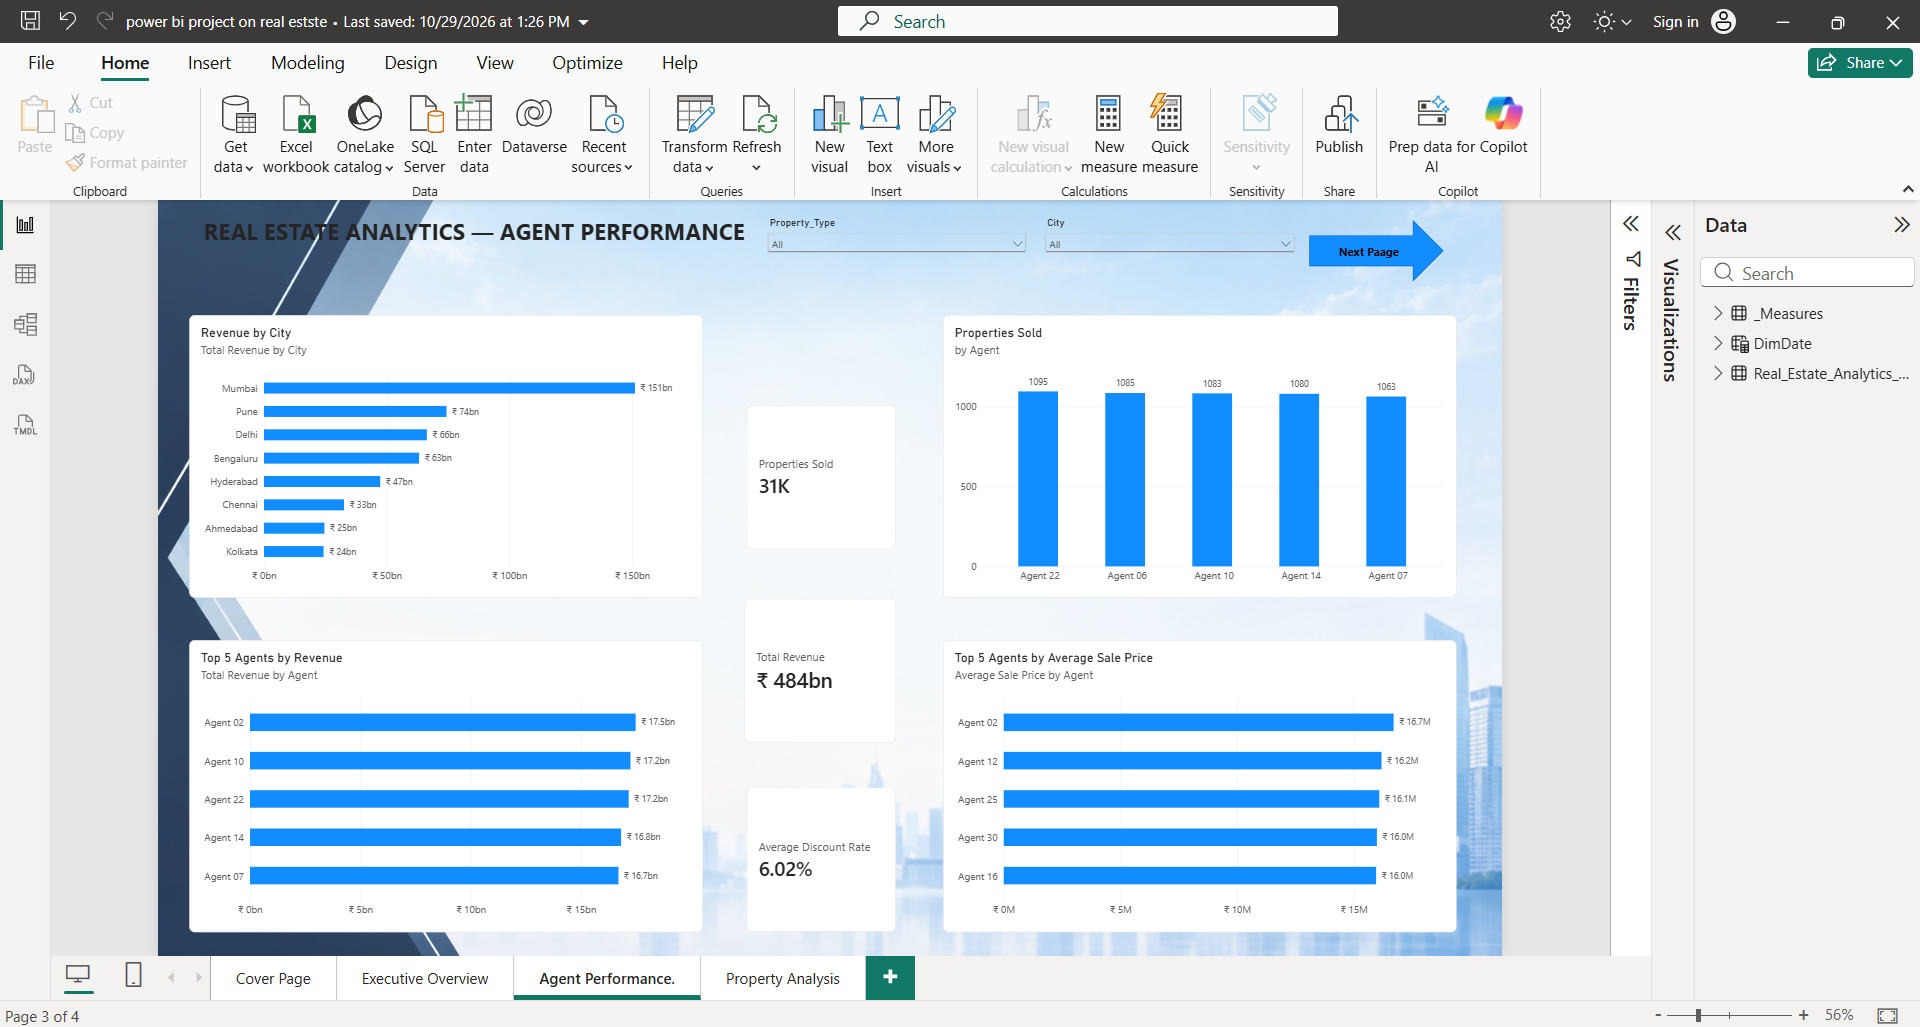

Layout of this report page (visuals, bound fields, positions):
{"tool":"powerbi","page":{"name":"Agent Performance.","canvas":[1920,1080],"ordinal":2},"visuals":[{"type":"clusteredBarChart","title":"Top 5 Agents by Revenue","fields":{"Category":["Real_Estate_Analytics_50000.Agent"],"Y":["_Measures.Total Revenue"]},"box":[43.9,628.4,733.9,417.5],"z":0},{"type":"cardVisual","fields":{"Data":["_Measures.Total Revenue"]},"box":[837.7,569.1,217.4,206.8],"z":1},{"type":"clusteredColumnChart","fields":{"Category":["Real_Estate_Analytics_50000.Agent"],"Y":["_Measures.Properties Sold"]},"box":[1120.6,164.8,733.9,404.3],"z":2},{"type":"slicer","fields":{"Values":["Real_Estate_Analytics_50000.Property_Type"]},"box":[866,24,379.6,97.7],"z":3},{"type":"clusteredBarChart","title":"Top 5 Agents by Average Sale Price","fields":{"Category":["Real_Estate_Analytics_50000.Agent"],"Y":["_Measures.Average Sale Price"]},"box":[1120.6,628.4,733.9,417.5],"z":4},{"type":"cardVisual","fields":{"Data":["_Measures.Properties Sold"]},"box":[841.9,292,213.1,206.8],"z":6},{"type":"slicer","fields":{"Values":["Real_Estate_Analytics_50000.City"]},"box":[1262,24,366.6,159.9],"z":7},{"type":"textbox","box":[0,24,903.7,87.4],"z":8},{"type":"cardVisual","fields":{"Data":["DimDate.Average Discount Rate"]},"box":[841.9,839.8,213.1,206.8],"z":9},{"type":"clusteredBarChart","title":"Revenue by City","fields":{"Category":["Real_Estate_Analytics_50000.City"],"Y":["_Measures.Total Revenue"]},"box":[43.9,164.8,733.9,404.3],"z":10},{"type":"shape","box":[1644,28,192,88],"z":11}]}

Visuals, with their boxes on the page's 1920x1080 design canvas (x1, y1, x2, y2). These are canvas units, not pixel positions in the 1920x1027 screenshot, which may show the page scaled, cropped or inside an application window:
"Top 5 Agents by Revenue" clusteredBarChart: x1=44 y1=628 x2=778 y2=1046
cardVisual - _Measures.Total Revenue: x1=838 y1=569 x2=1055 y2=776
clusteredColumnChart - Real_Estate_Analytics_50000.Agent x _Measures.Properties Sold: x1=1121 y1=165 x2=1854 y2=569
slicer - Real_Estate_Analytics_50000.Property_Type: x1=866 y1=24 x2=1246 y2=122
"Top 5 Agents by Average Sale Price" clusteredBarChart: x1=1121 y1=628 x2=1854 y2=1046
cardVisual - _Measures.Properties Sold: x1=842 y1=292 x2=1055 y2=499
slicer - Real_Estate_Analytics_50000.City: x1=1262 y1=24 x2=1629 y2=184
textbox: x1=0 y1=24 x2=904 y2=111
cardVisual - DimDate.Average Discount Rate: x1=842 y1=840 x2=1055 y2=1047
"Revenue by City" clusteredBarChart: x1=44 y1=165 x2=778 y2=569
shape: x1=1644 y1=28 x2=1836 y2=116
